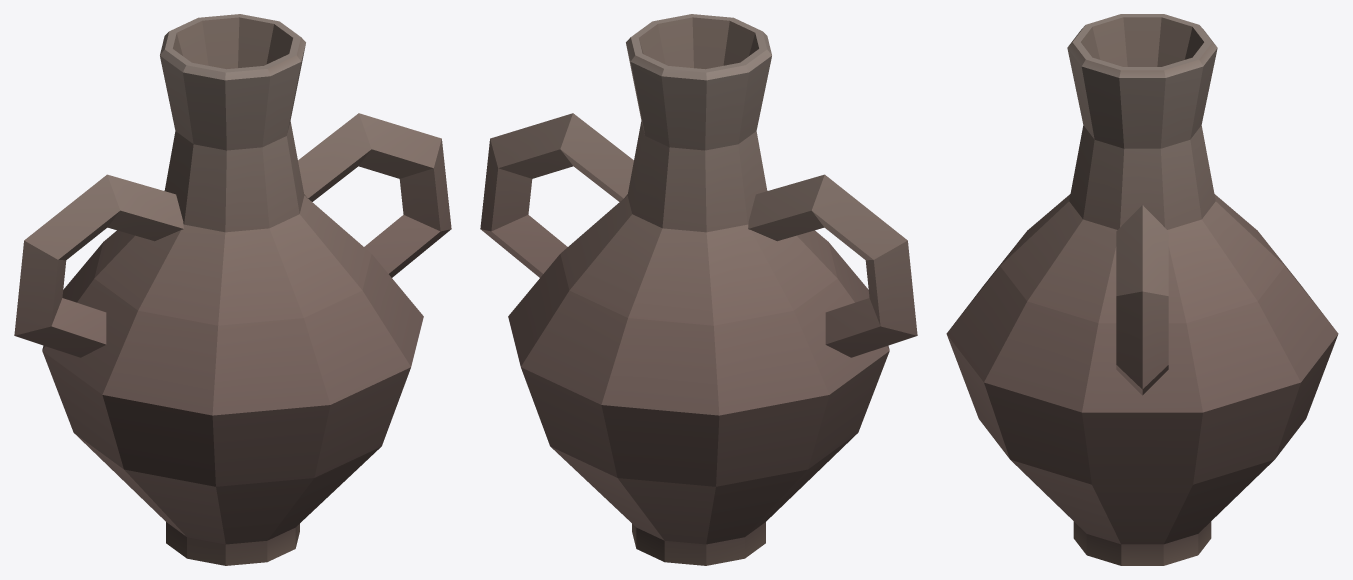
File: Prop_VaseD.fbx
3 views of the same model, side by side, from view 1: azimuth 30°, elevation 25°; view 2: azimuth 150°, elevation 25°; view 3: azimuth 270°, elevation 25° (orthographic).
Visible parts, largest first — view 1: Prop_VaseD; view 2: Prop_VaseD; view 3: Prop_VaseD.
Part boxes in pixels (x1,y1,x2,y2): Prop_VaseD: [14, 14, 451, 565]; Prop_VaseD: [480, 14, 917, 565]; Prop_VaseD: [946, 14, 1338, 565].
Bounding box in the file's own units: 36.48 × 39.36 × 28.19.
